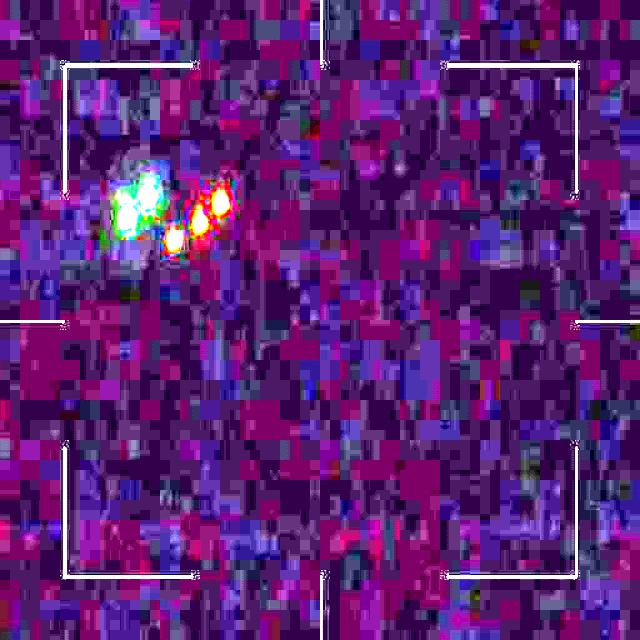bird: (116, 184, 231, 254)
